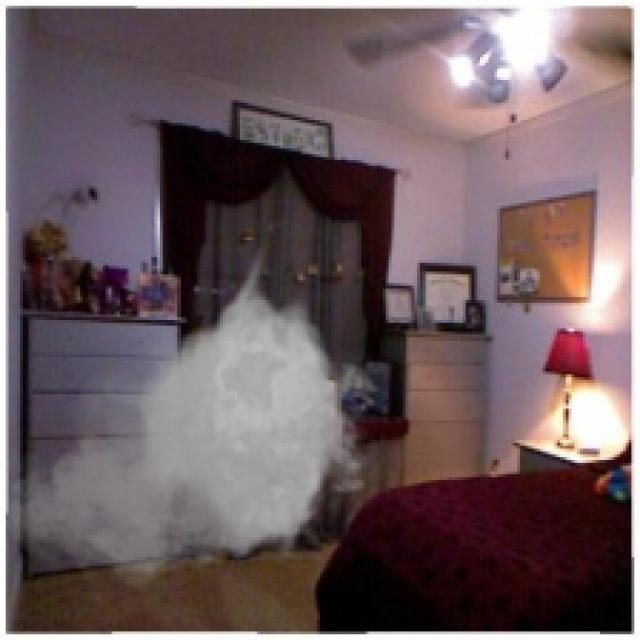Smoke: (0, 242, 392, 595)
